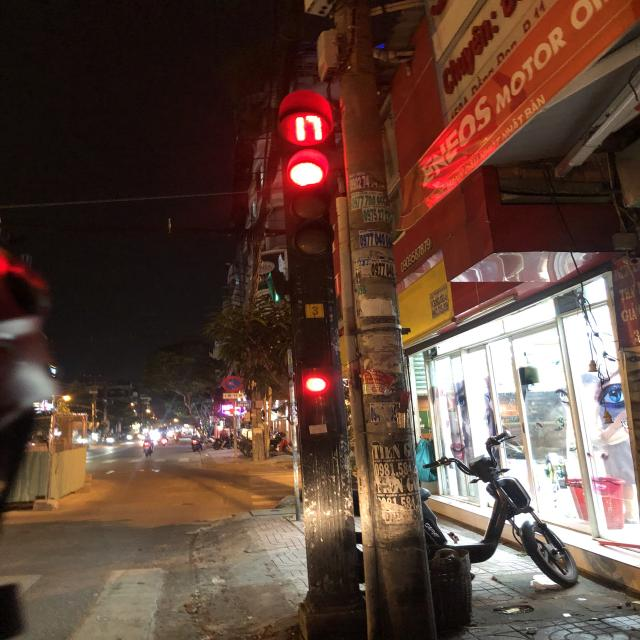Red: (276, 147, 338, 268), (297, 363, 339, 441)
